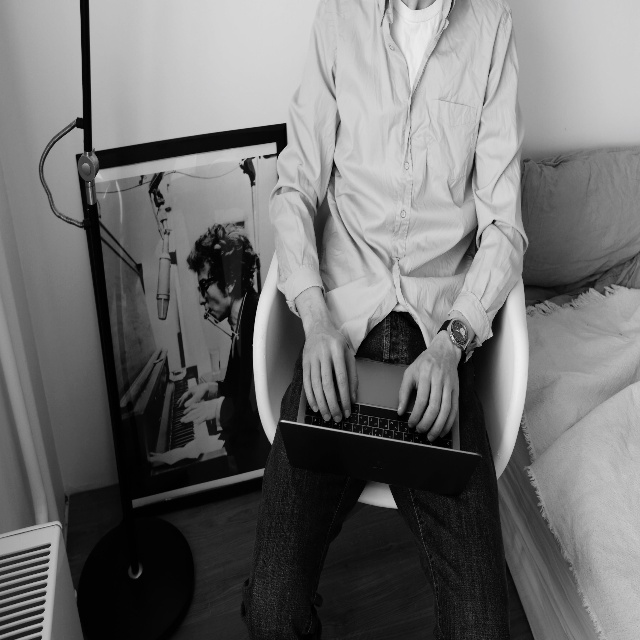Gafas: (195, 275, 223, 297)
Sin_guantes: (397, 340, 459, 442), (301, 320, 358, 423), (182, 398, 222, 429), (180, 374, 214, 408)
